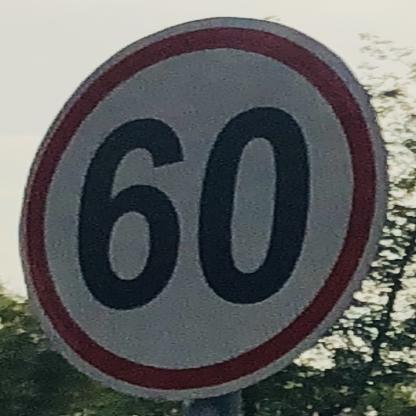Speed Limit -60 kmph-: (19, 17, 389, 402)
